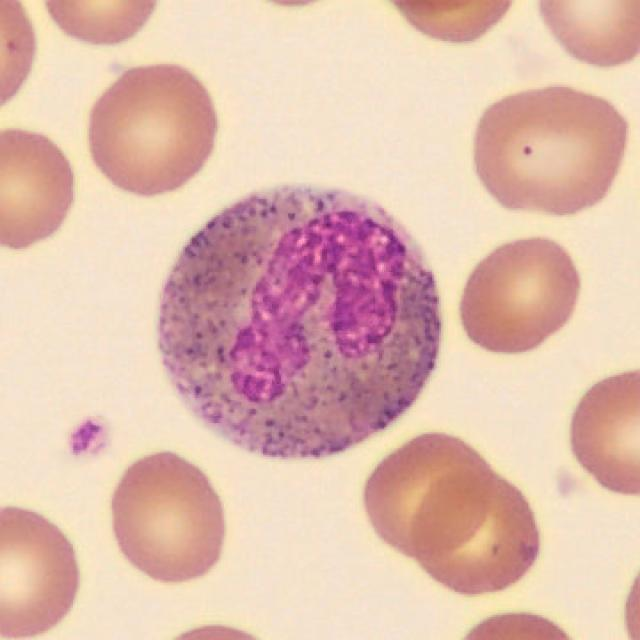Neutrofilo segmentado: (156, 185, 441, 459)
